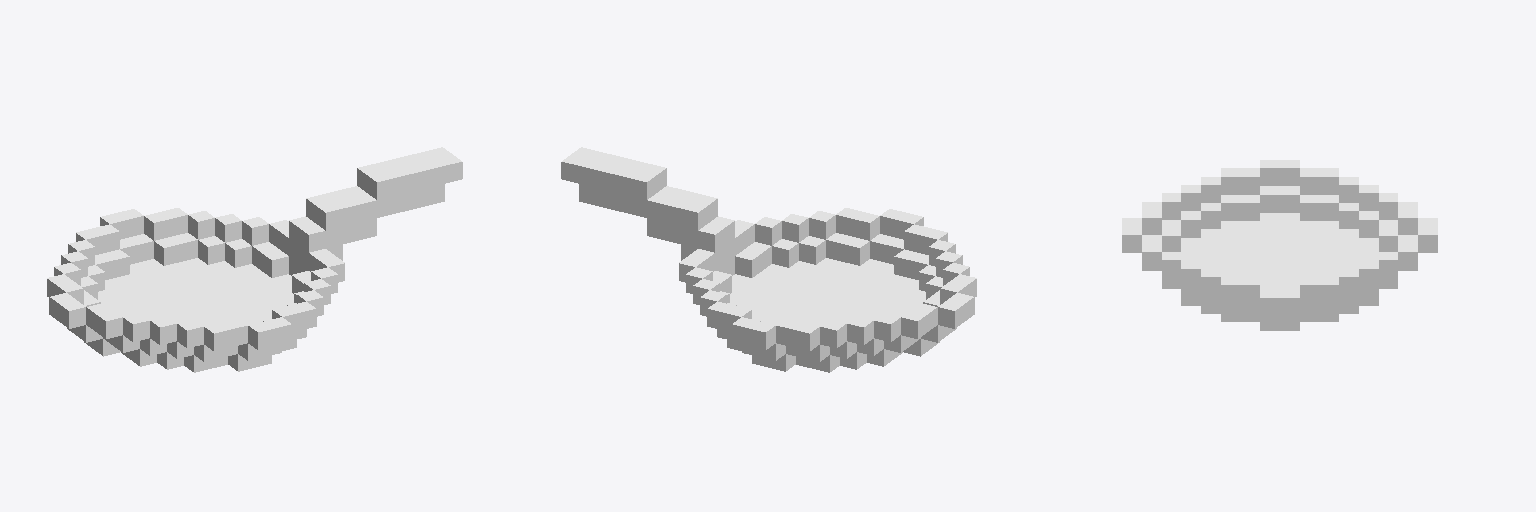
File: Pan01.obj
3 views of the same model, side by side, from view 1: azimuth 30°, elevation 25°; view 2: azimuth 150°, elevation 25°; view 3: azimuth 270°, elevation 25° (orthographic).
Visible parts, largest first — view 1: object 1; view 2: object 1; view 3: object 1.
Boxes of the visible parts, x1=… form: object 1: x1=47, y1=147, x2=462, y2=372; object 1: x1=561, y1=147, x2=976, y2=372; object 1: x1=1122, y1=160, x2=1437, y2=330.
Bounding box in the file's own units: 2.3 × 0.6 × 1.6.